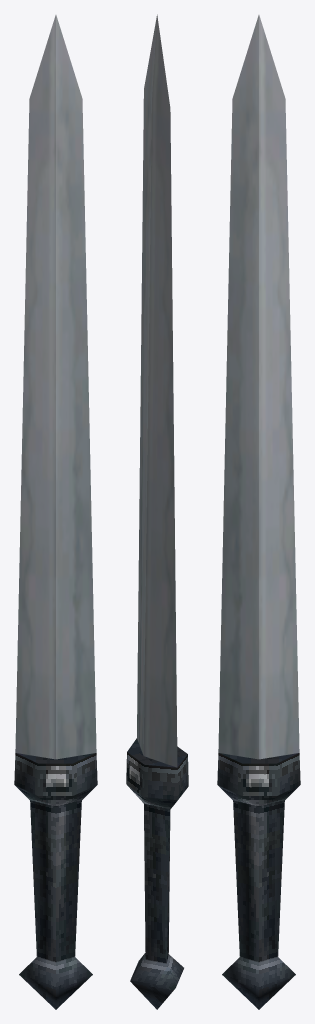
Rendered from wp_mle_sword_s01_l0.fbx.
3 views of the same model, side by side, from view 1: azimuth 90°, elevation 25°; view 2: azimuth 210°, elevation 25°; view 3: azimuth 270°, elevation 25° (orthographic).
Visible parts, largest first — view 1: mesh_node; view 2: mesh_node; view 3: mesh_node.
Boxes of the visible parts, bbox=[...] form: mesh_node: bbox=[14, 15, 97, 1009]; mesh_node: bbox=[126, 14, 188, 1009]; mesh_node: bbox=[217, 15, 300, 1009].
Size of the model in its own units: 0.0459 by 0.8037 by 0.0609.
